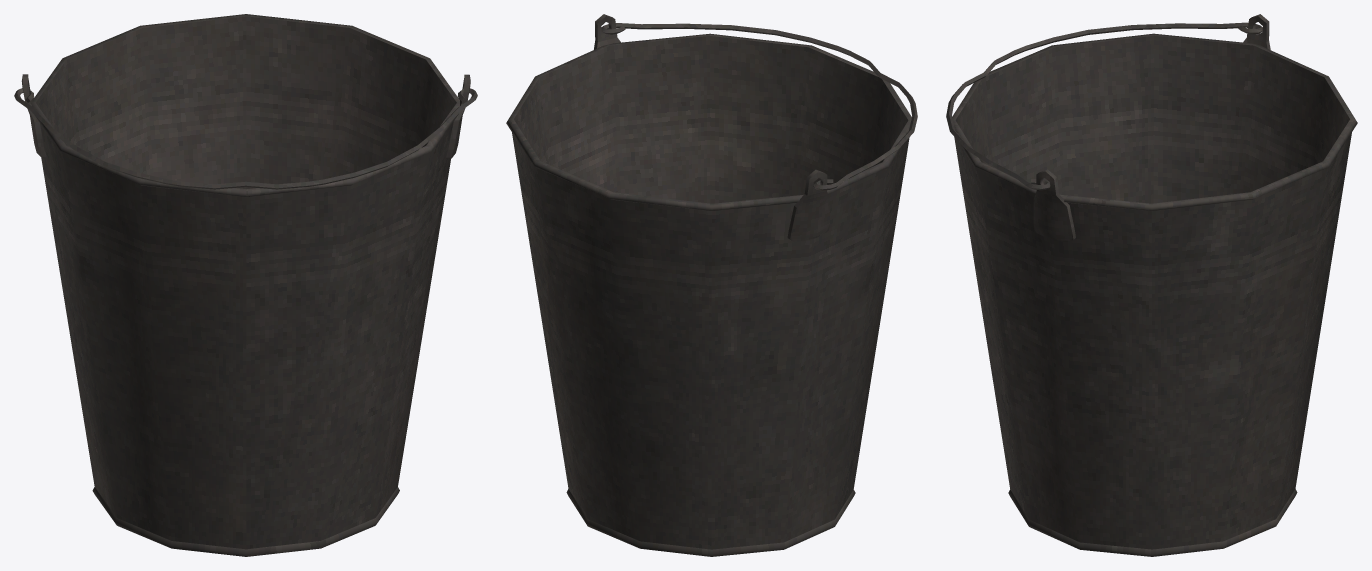
Rendered from bucket_mx_3.glb.
The picture shows the model from 3 angles, left to right: view 1: azimuth 30°, elevation 25°; view 2: azimuth 150°, elevation 25°; view 3: azimuth 270°, elevation 25°; orthographic projection. The views are drawn at different scales.
Visible parts, largest first — view 1: bucket_mx_3; view 2: bucket_mx_3; view 3: bucket_mx_3.
Boxes of the visible parts, x1,y1,x2,y2 form: bucket_mx_3: (14,14,477,556); bucket_mx_3: (506,14,917,556); bucket_mx_3: (946,14,1357,556).
Size of the model in its own units: 0.4299 by 0.4651 by 0.4298.
1 material, 1 textured.
